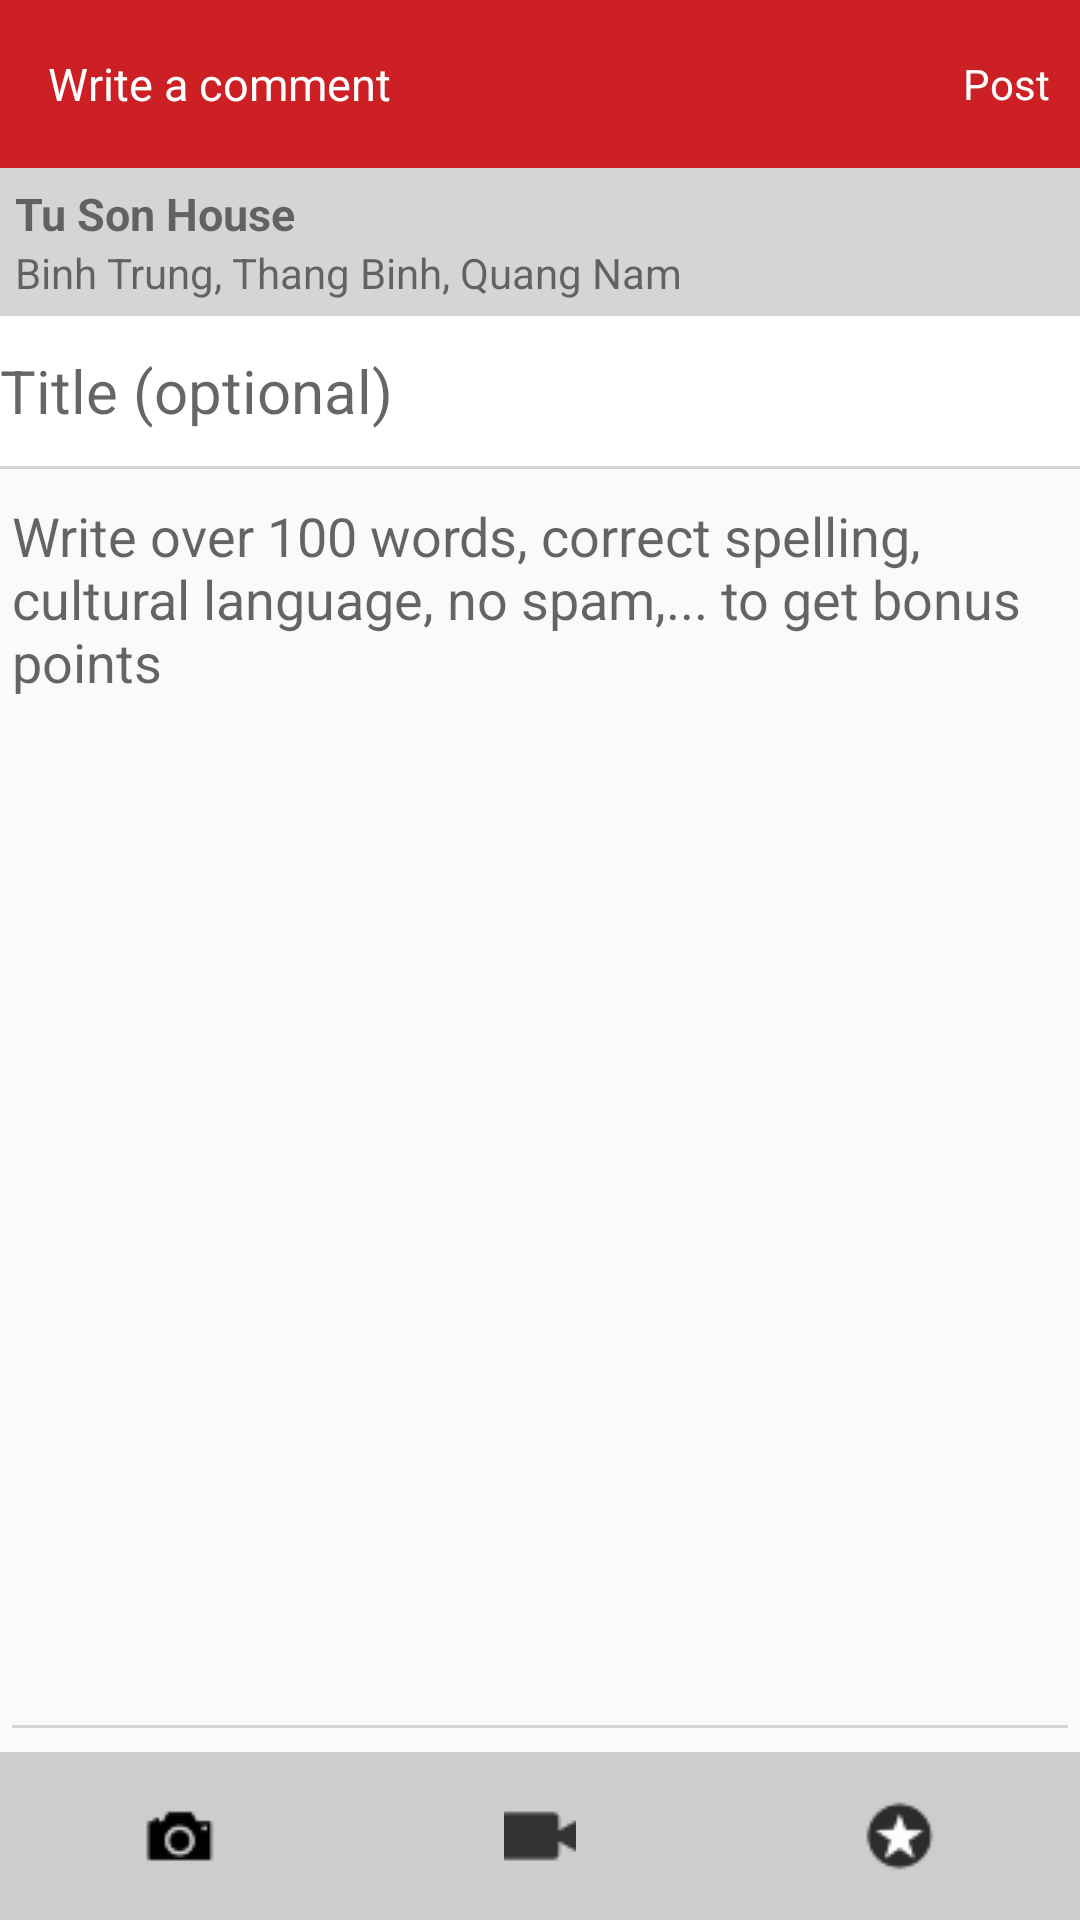

Icons on this 1080 x 1920 Android screen, each with the point to tap as [x,y]:
camera: [179,1836]
star: [899,1836]
videocam: [540,1836]
